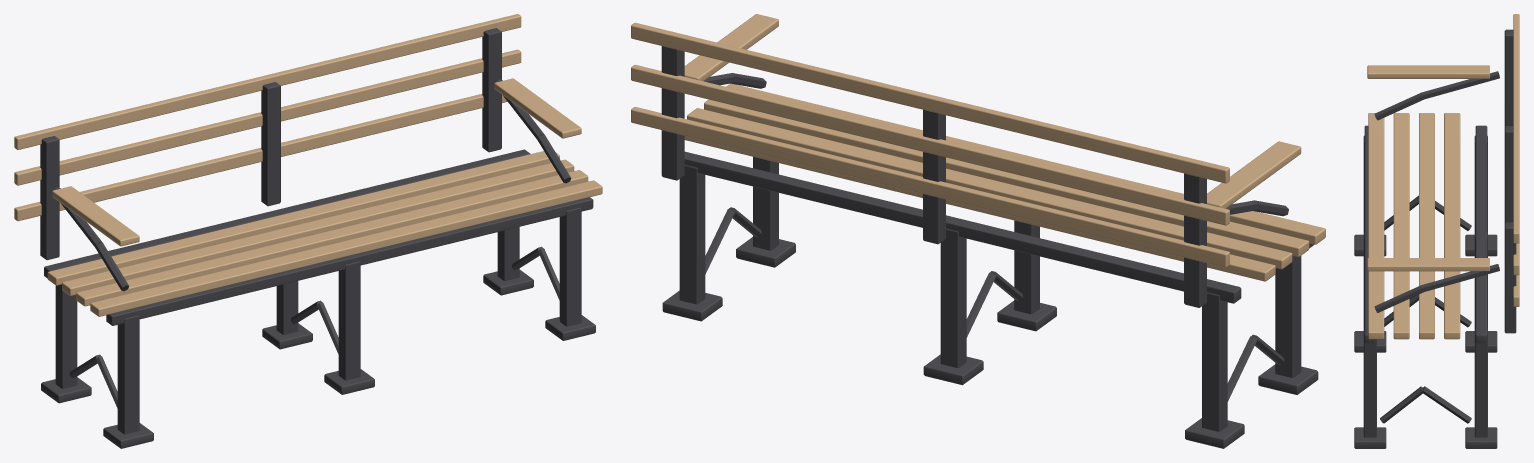
Rendered from Bench_WoodIron.fbx.
3 views of the same model, side by side, from view 1: azimuth 30°, elevation 25°; view 2: azimuth 150°, elevation 25°; view 3: azimuth 270°, elevation 25° (orthographic). The views are drawn at different scales.
Visible parts, largest first — view 1: LOD0; view 2: LOD0; view 3: LOD0.
Boxes of the visible parts, x1,y1,x2,y2 form: LOD0: [14, 14, 602, 448]; LOD0: [631, 14, 1325, 448]; LOD0: [1354, 14, 1519, 448].
Size of what is drawn, in the model's own units: 178 by 84 by 56.6.
